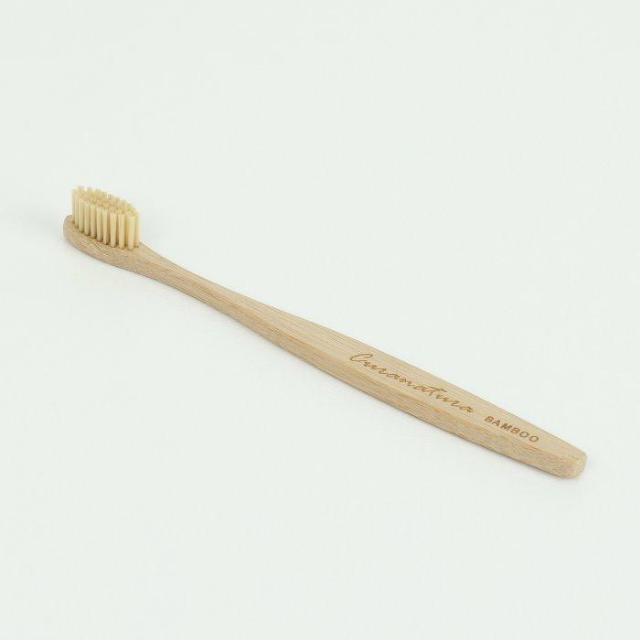toothbrush: (13, 162, 610, 512)
